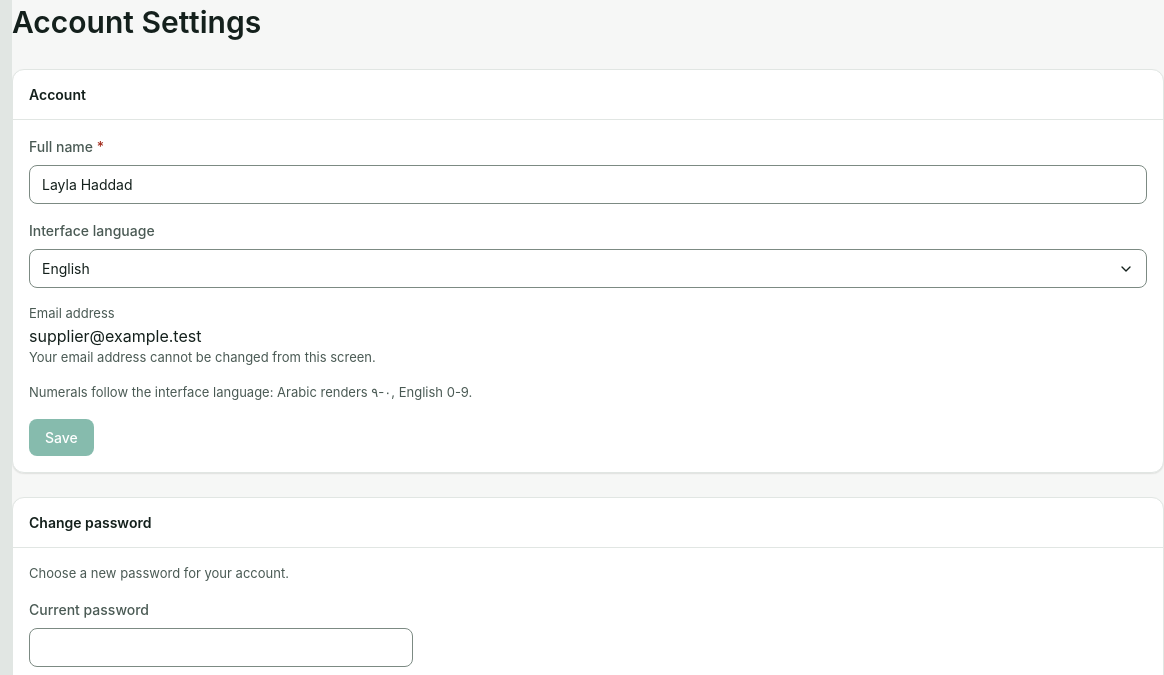
Test case: SettingsPage change password (SCR-903) › refuses to submit until both new-password boxes agree
Type "current-secret" into the password field labelled "Current password" at (221, 648), box left=29, top=628, right=413, bottom=667
(page scrolled)
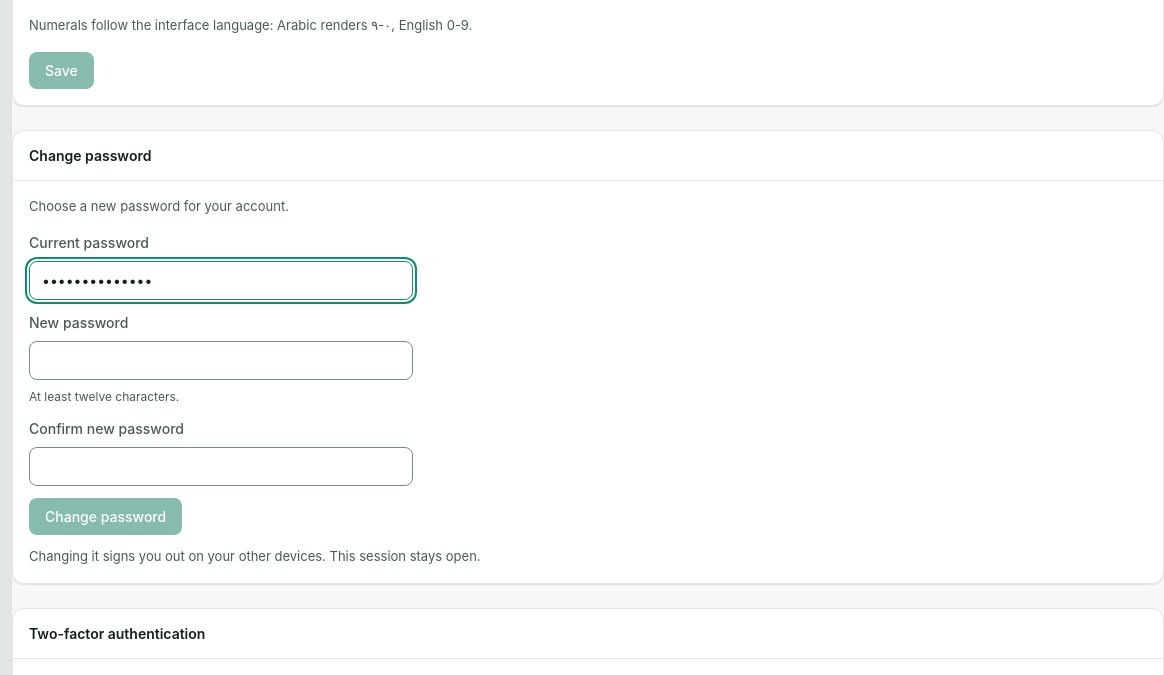
Type "a-long-enough-password" into the password field labelled "New password" at (221, 360), box left=29, top=341, right=413, bottom=380
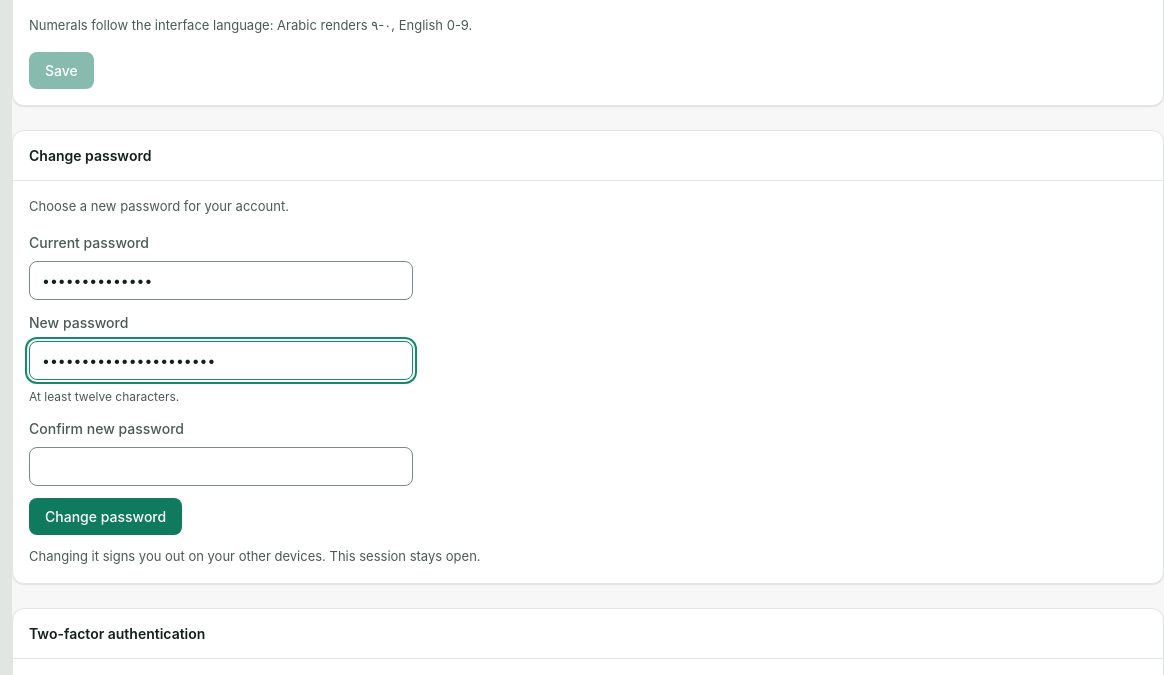
Type "a-long-enough-passwerd" into the password field labelled "Confirm new password" at (221, 466), box left=29, top=447, right=413, bottom=486
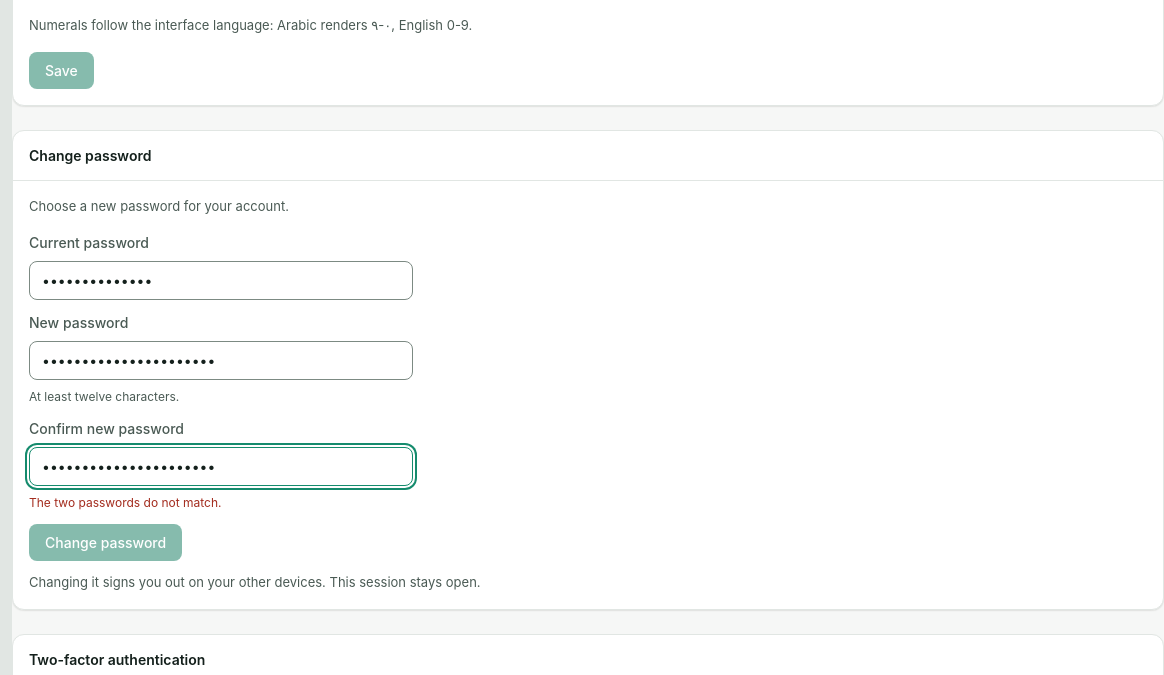
Check: the button "Change password" is disabled, box left=29, top=524, right=182, bottom=561
Check: the text "The two passwords do not match." is shown, box left=29, top=495, right=222, bottom=510
